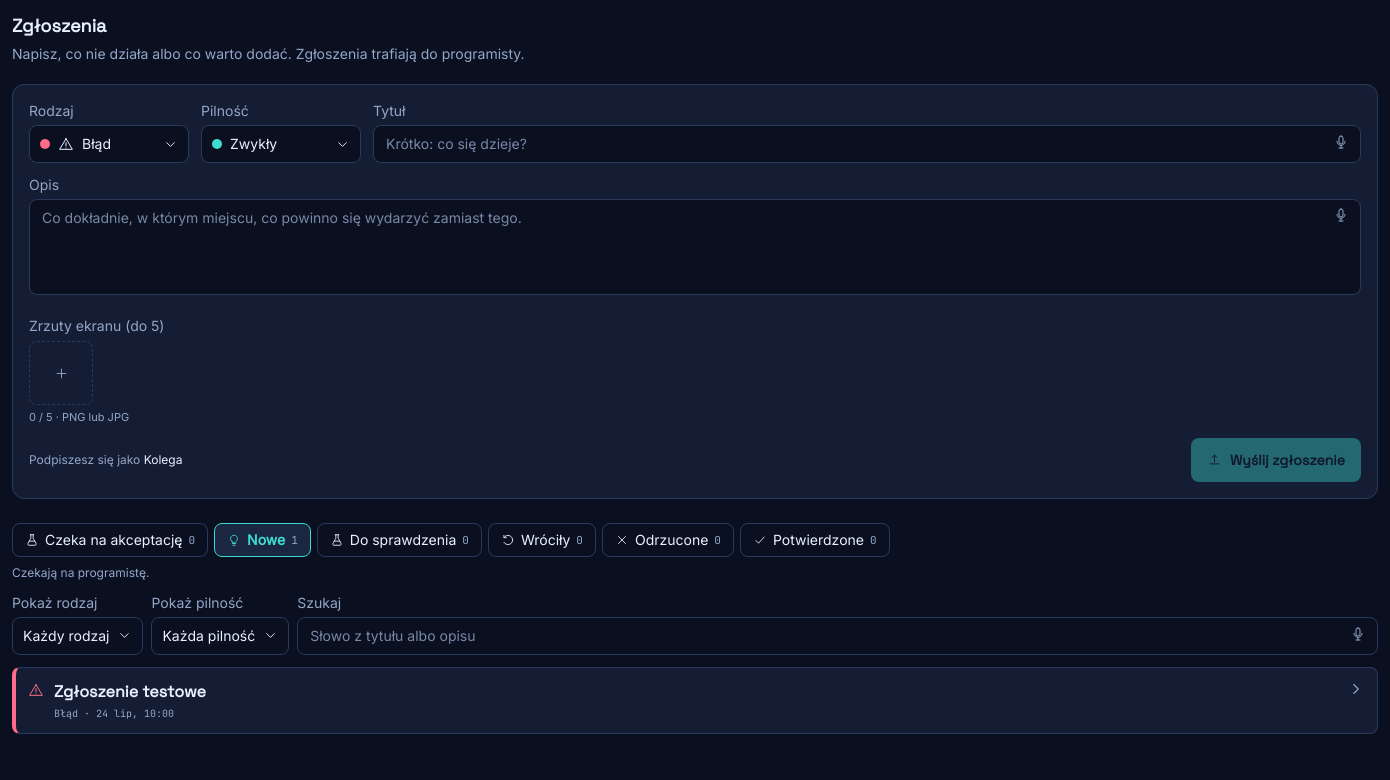
ReportsPanel — coworker/editor widzą „Dopisz uwagę" › coworker widzi przycisk dopisania uwagi na zgłoszeniu `new`
This screenshot has width=1390, height=780.
Click the button "Zgłoszenie testowe Błąd · 24 lip, 10:00".
click(130, 691)  # box [12,666,1378,734]
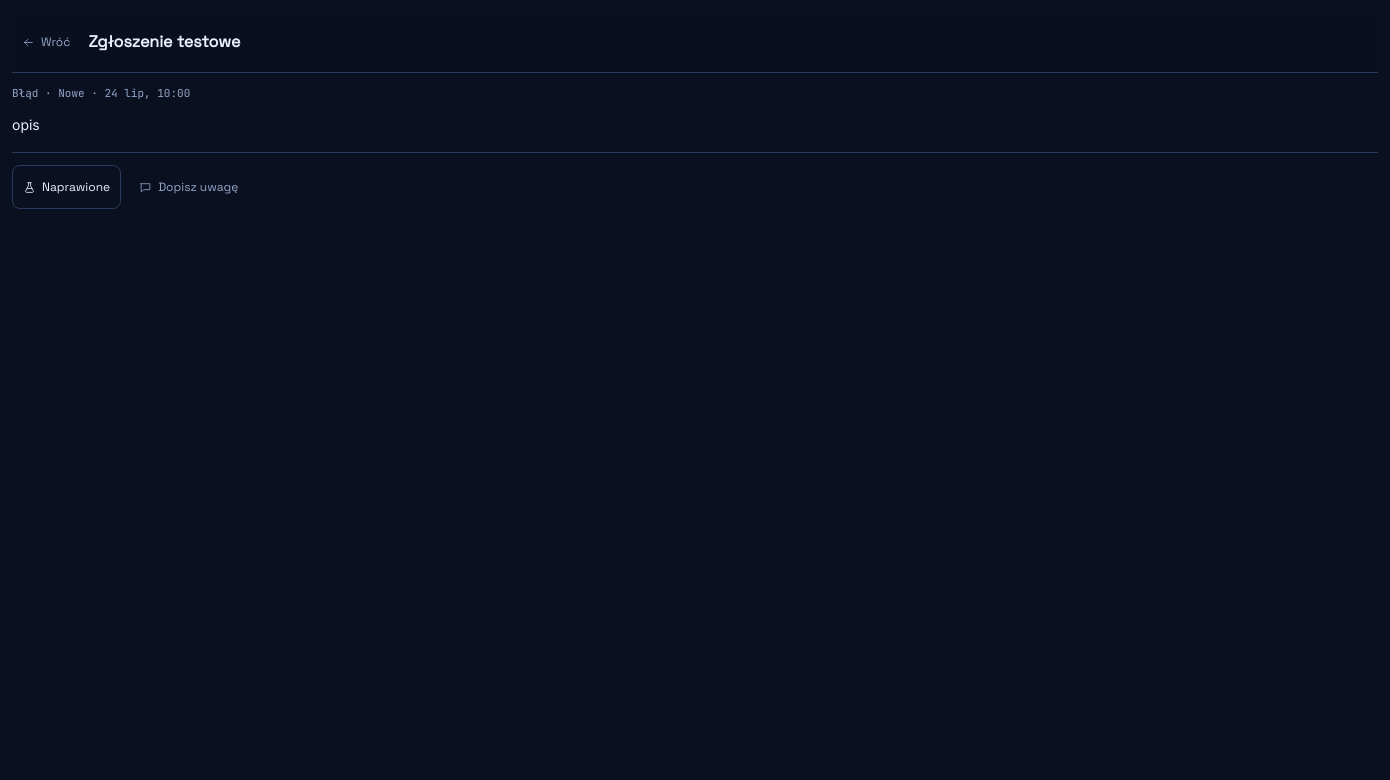
Expected: the button "Dopisz uwagę" is shown, [129,165,248,209]
